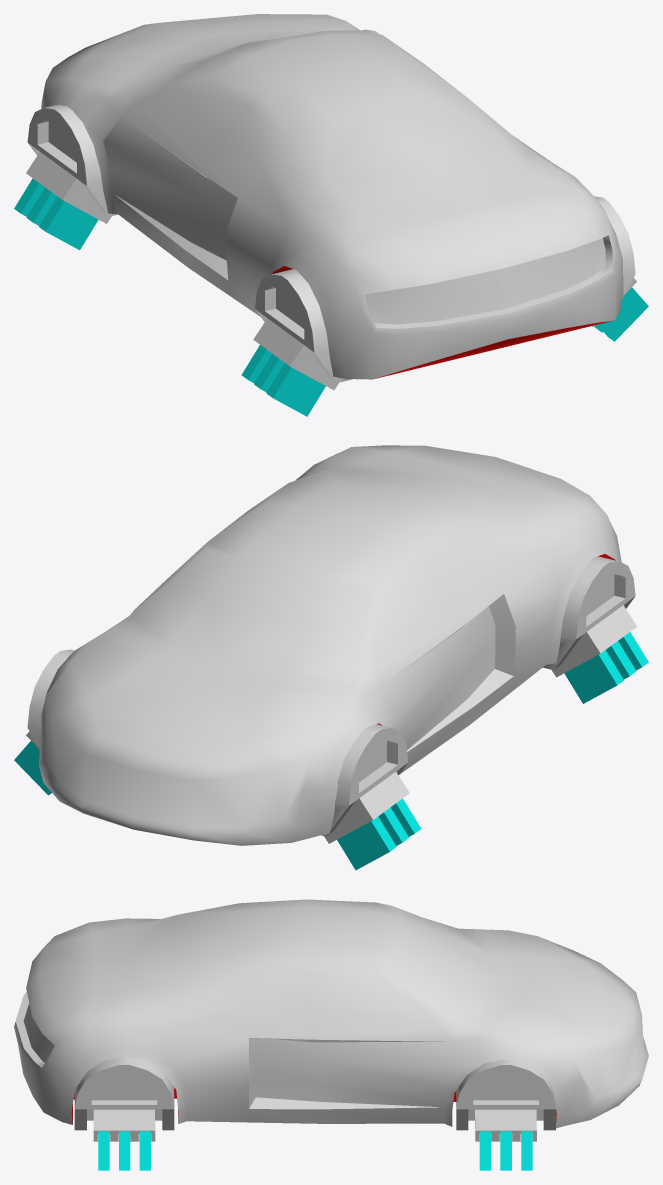
The model's file is Sports_car.fbx.
3 views of the same model, one above another, from view 1: azimuth 30°, elevation 25°; view 2: azimuth 150°, elevation 25°; view 3: azimuth 270°, elevation 25° (orthographic). The views are drawn at different scales.
Visible parts, largest first — view 1: Sports_car; view 2: Sports_car; view 3: Sports_car.
Part boxes in pixels (x1,y1,x2,y2): Sports_car: (14, 14, 648, 416); Sports_car: (14, 445, 648, 870); Sports_car: (14, 899, 648, 1170).
Size of the model in its own units: 255 by 143 by 444.
